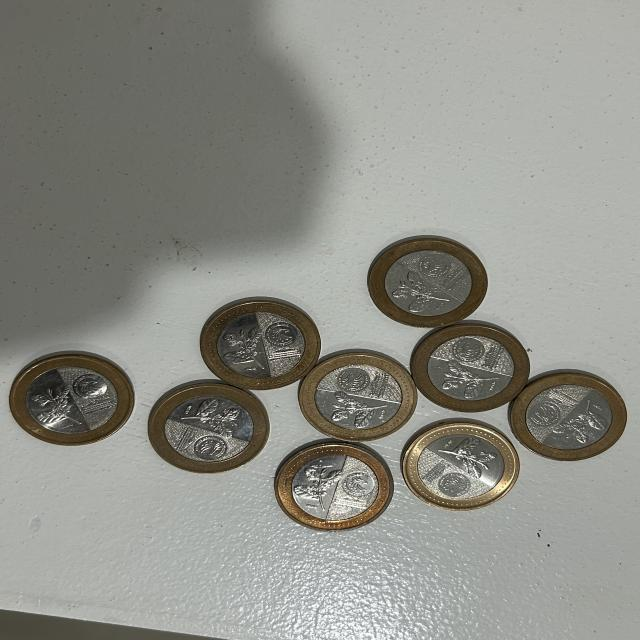20_New_Back: (432, 360, 504, 398), (392, 272, 452, 314), (30, 379, 80, 426), (181, 399, 241, 438), (293, 462, 341, 510), (436, 438, 495, 474), (330, 390, 385, 428), (560, 400, 604, 444), (221, 326, 266, 368)
